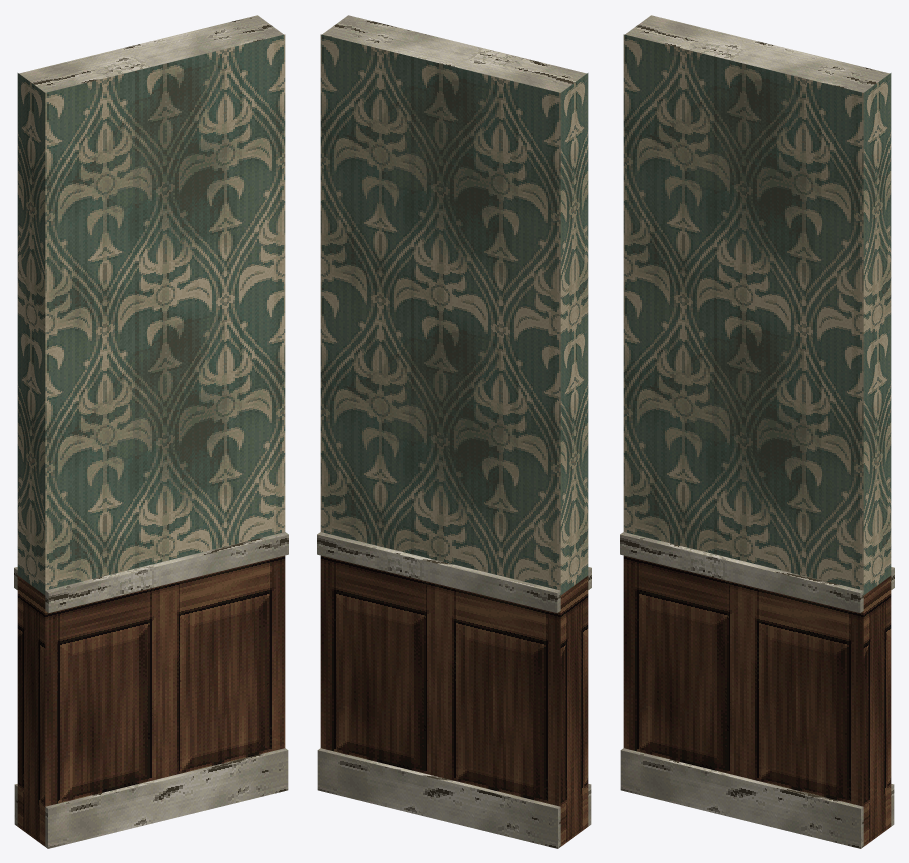
The model's file is house_wall_half.glb.
3 renders of one model, left to right at view 1: azimuth 30°, elevation 25°; view 2: azimuth 150°, elevation 25°; view 3: azimuth 330°, elevation 25°, orthographic.
Visible parts, largest first — view 1: house_wall_half; view 2: house_wall_half; view 3: house_wall_half.
Boxes of the visible parts, x1,y1,x2,y2 form: house_wall_half: [14, 15, 288, 848]; house_wall_half: [317, 15, 591, 848]; house_wall_half: [620, 15, 894, 848].
Size of the model in its own units: 1 by 3 by 0.25.
Materials: 3 (3 with a texture image).
